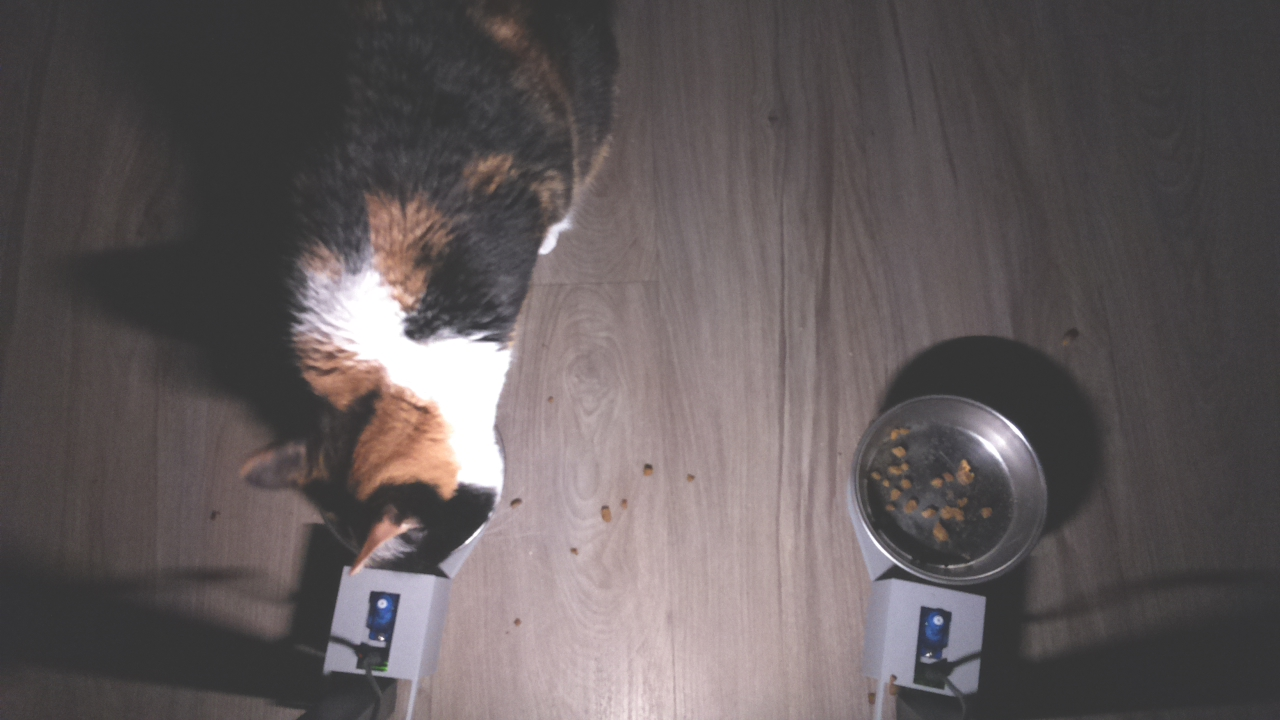bella_eating: (220, 318, 533, 584)
open_bowl: (844, 380, 1050, 591)
